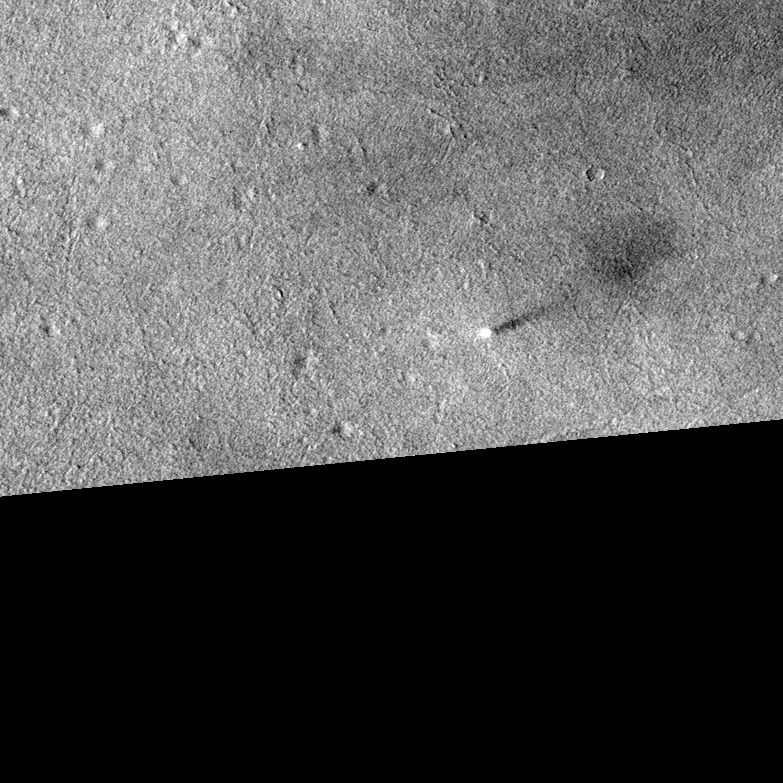dust_devil: (473, 301, 556, 342)
